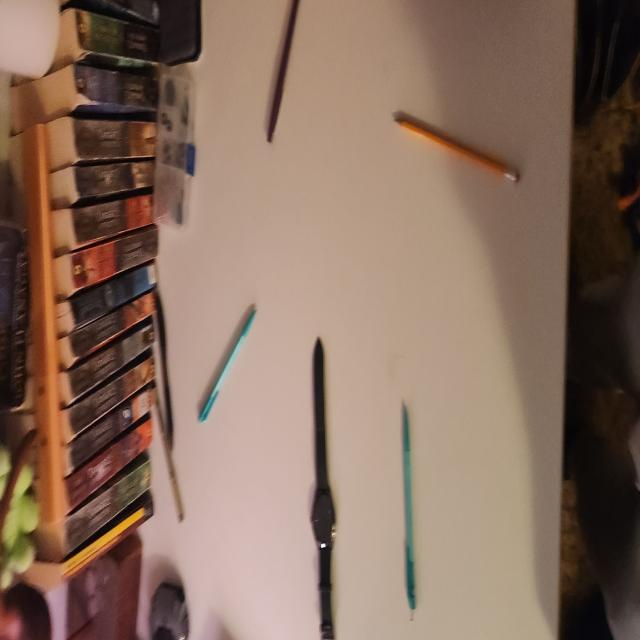Pen: (198, 305, 257, 426), (267, 0, 300, 144), (403, 403, 417, 591)
Pencil: (395, 111, 520, 180)
Watch: (312, 343, 337, 640)
